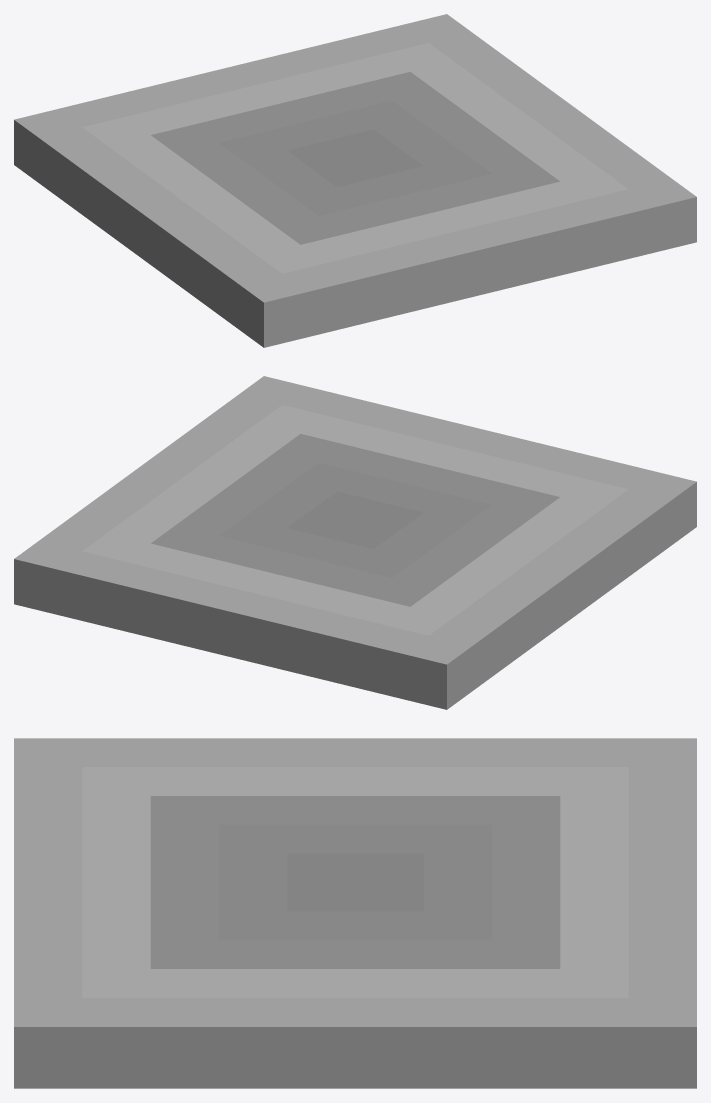
The model's file is TIle.obj.
The picture shows the model from 3 angles, top to bottom: view 1: azimuth 30°, elevation 25°; view 2: azimuth 150°, elevation 25°; view 3: azimuth 270°, elevation 25°; orthographic projection. The views are drawn at different scales.
Bounding box in the file's own units: 10 × 1 × 10.
1 material, 1 textured.
